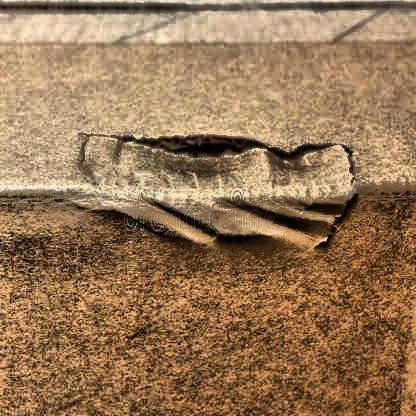defect parcel: (52, 101, 396, 293)
